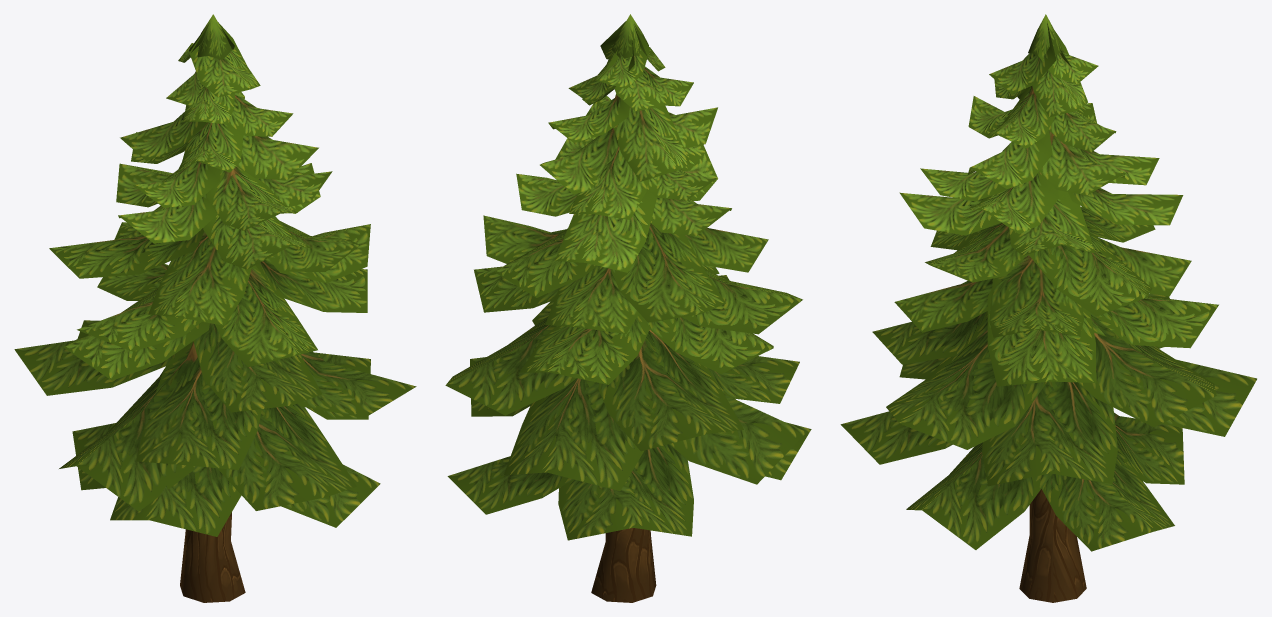
The model's file is tree.obj.
The picture shows the model from 3 angles, left to right: view 1: azimuth 30°, elevation 25°; view 2: azimuth 150°, elevation 25°; view 3: azimuth 270°, elevation 25°; orthographic projection.
Visible parts, largest first — view 1: Pine_tree; view 2: Pine_tree; view 3: Pine_tree.
Part boxes in pixels (x1,y1,x2,y2): Pine_tree: (14,14,416,602); Pine_tree: (445,14,811,602); Pine_tree: (840,14,1256,602).
Size of the model in its own units: 3.13 by 5.45 by 3.59.
